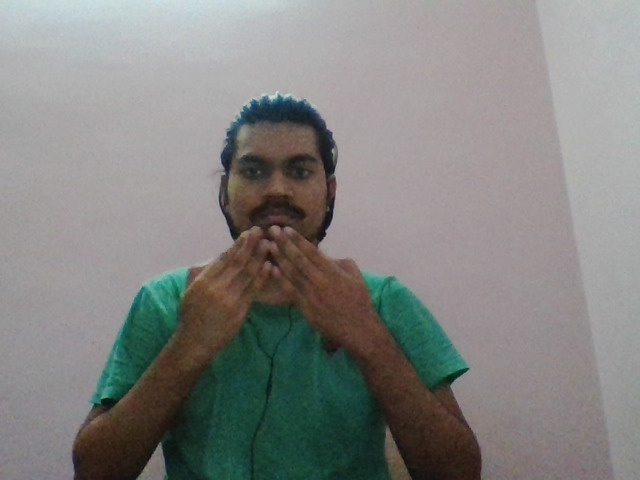ThankYou: (174, 220, 379, 344)
